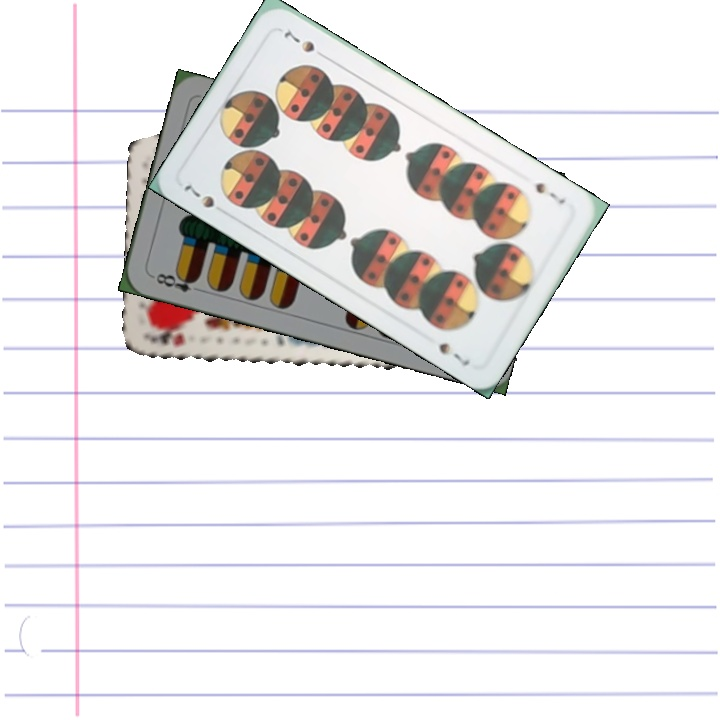E8: (147, 268, 205, 295)
HK: (146, 327, 188, 350)
S7: (180, 181, 231, 218), (531, 178, 568, 207)
